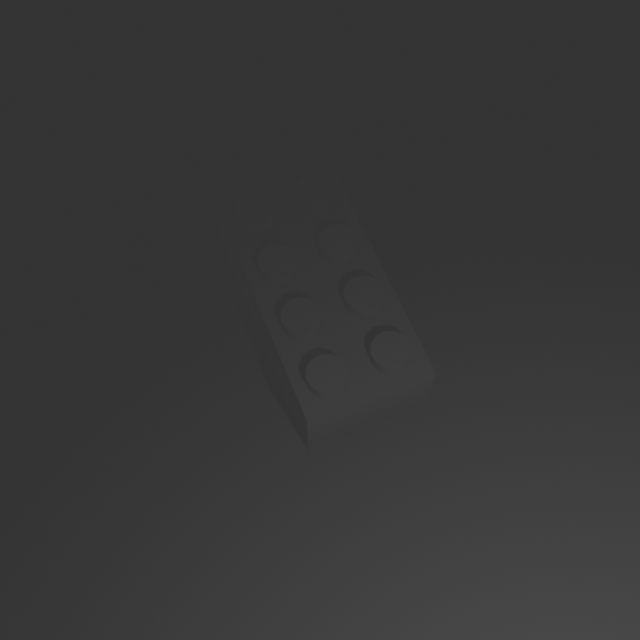lego_2x4: (214, 158, 438, 450)
